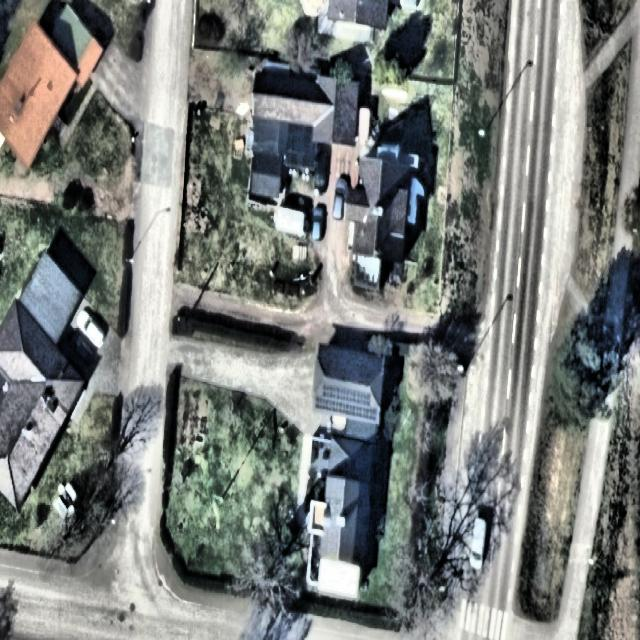roof_pv: (315, 383, 381, 421)
